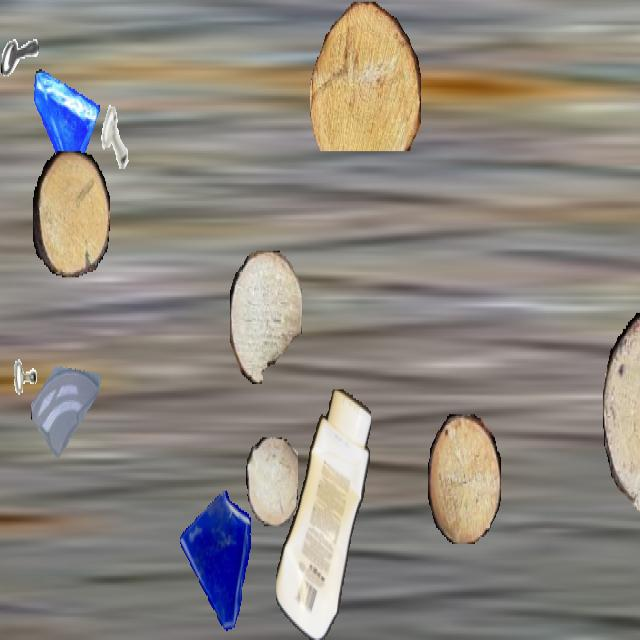glass: (176, 489, 260, 638), (31, 336, 103, 464), (30, 64, 100, 188)
metal: (90, 92, 142, 185), (0, 355, 46, 441), (1, 21, 39, 89)
plastic: (276, 390, 370, 638)
wood: (310, 2, 420, 151), (33, 151, 109, 276), (230, 251, 302, 382), (428, 414, 500, 542), (603, 299, 640, 512), (246, 438, 298, 526)
